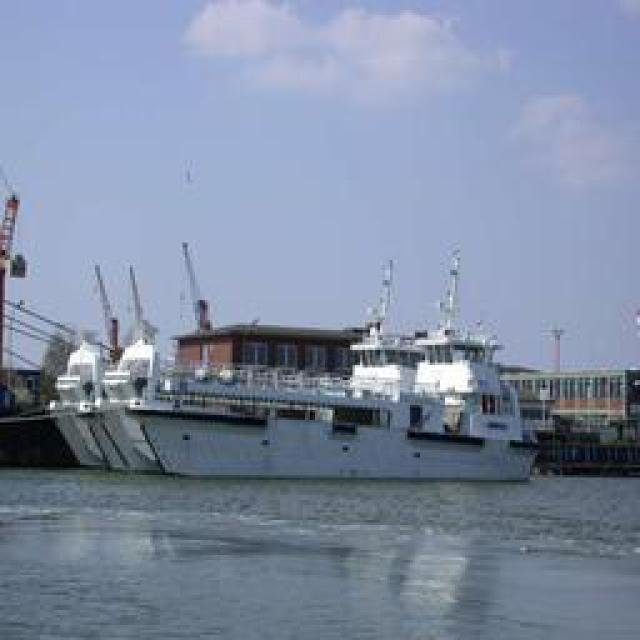Ship: (89, 235, 542, 485)
